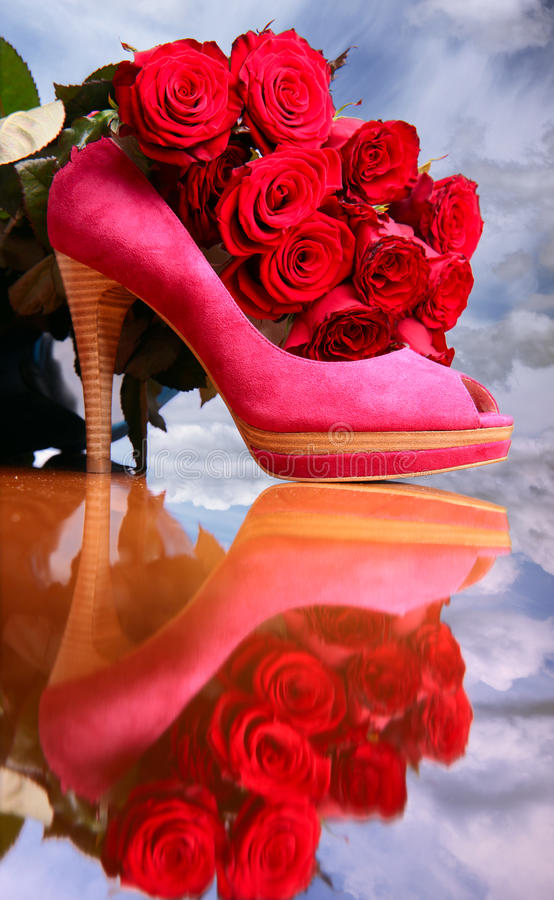RedRose: (108, 32, 238, 164), (217, 143, 343, 265), (223, 209, 355, 321), (220, 27, 349, 141), (340, 221, 428, 315), (343, 116, 428, 209), (289, 286, 388, 364), (418, 161, 491, 259), (169, 158, 239, 232), (414, 253, 479, 324), (396, 316, 458, 361)
